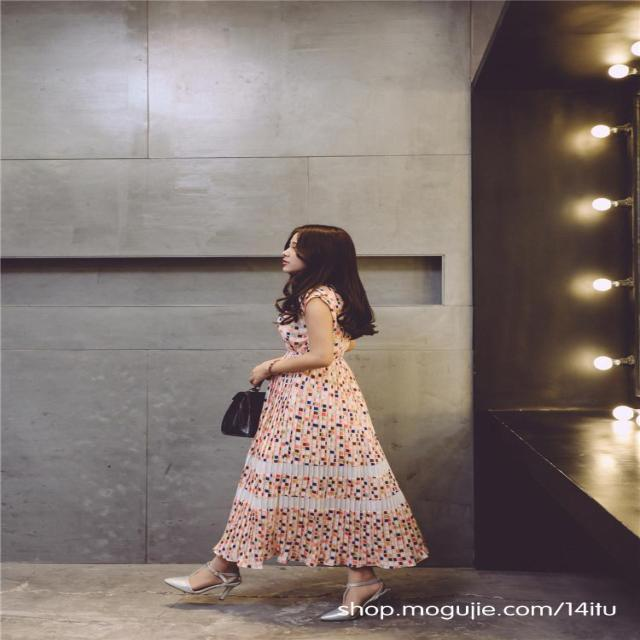vest dress: (216, 289, 430, 567)
